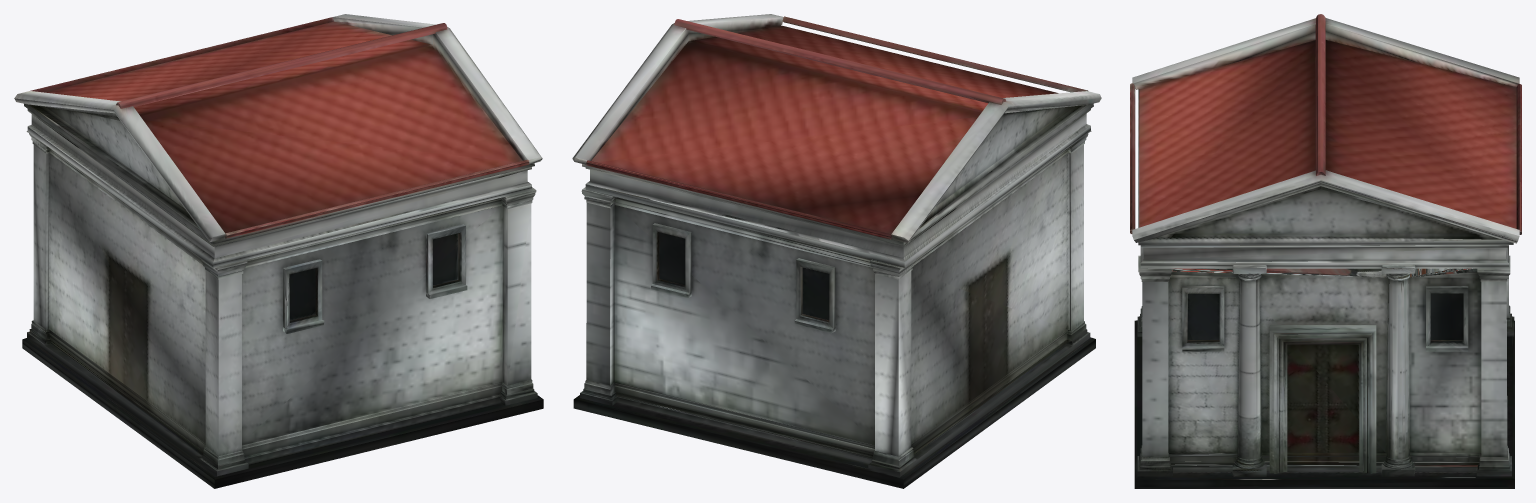
File: temple.glb
3 renders of one model, left to right at view 1: azimuth 30°, elevation 25°; view 2: azimuth 150°, elevation 25°; view 3: azimuth 270°, elevation 25°, orthographic.
Parts seen in each view (by area): view 1: model; view 2: model; view 3: model.
Boxes of the visible parts, box(x1,y1,x2,y2) form: model: box(14, 14, 543, 488); model: box(572, 14, 1101, 488); model: box(1130, 14, 1521, 488).
Bounding box in the file's own units: 1.11 × 1 × 1.13.
1 material, 1 textured.
